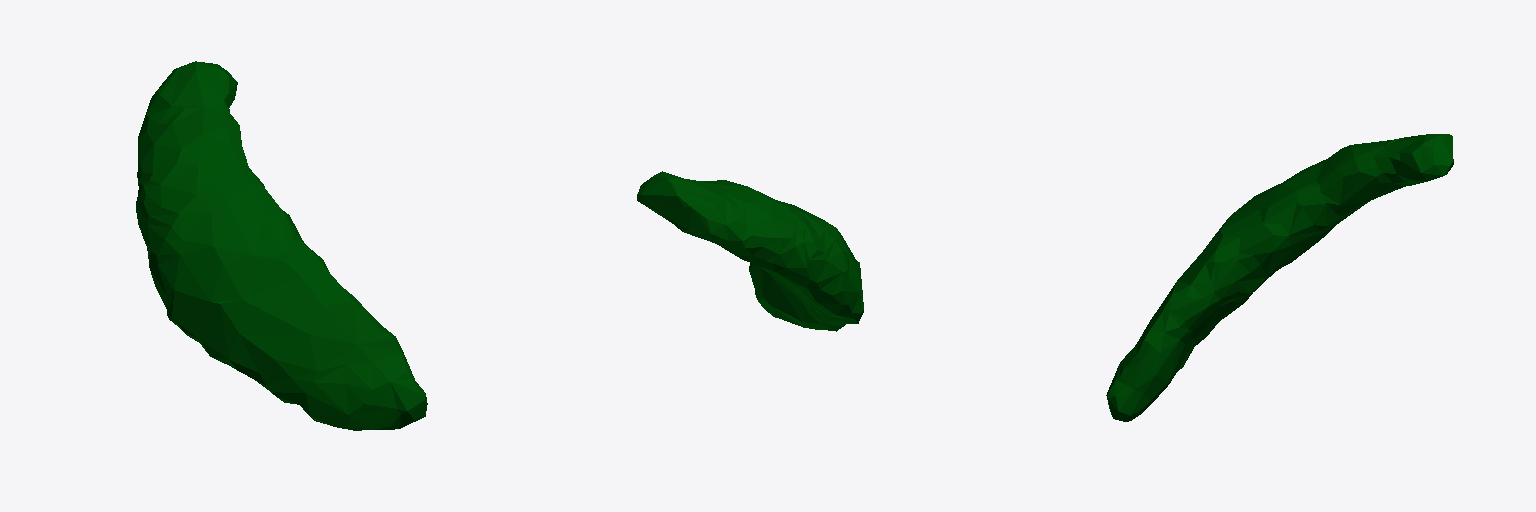
3 views of the same model, side by side, from view 1: azimuth 30°, elevation 25°; view 2: azimuth 150°, elevation 25°; view 3: azimuth 270°, elevation 25° (orthographic).
Visible parts, largest first — view 1: Polygonal_Model_1_Triangles_0; view 2: Polygonal_Model_1_Triangles_0; view 3: Polygonal_Model_1_Triangles_0.
Part boxes in pixels (x1,y1,x2,y2): Polygonal_Model_1_Triangles_0: (136, 61, 427, 430); Polygonal_Model_1_Triangles_0: (637, 171, 863, 331); Polygonal_Model_1_Triangles_0: (1106, 134, 1453, 421).
Size of the model in its own units: 1.26 by 1.73 by 2.08.